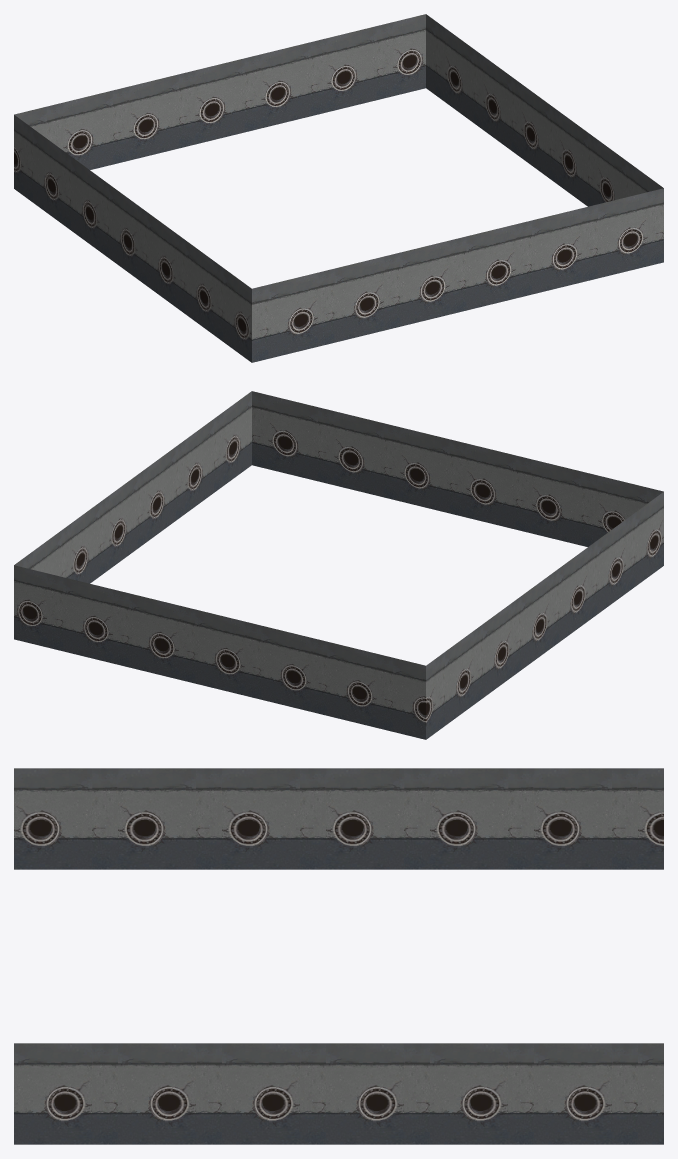
The picture shows the model from 3 angles, top to bottom: view 1: azimuth 30°, elevation 25°; view 2: azimuth 150°, elevation 25°; view 3: azimuth 270°, elevation 25°; orthographic projection. The views are drawn at different scales.
Visible parts, largest first — view 1: Joint_0_Object_0; view 2: Joint_0_Object_0; view 3: Joint_0_Object_0.
Part boxes in pixels (x1,y1,x2,y2): Joint_0_Object_0: (14, 14, 663, 362); Joint_0_Object_0: (14, 391, 663, 739); Joint_0_Object_0: (14, 768, 663, 1144).
Bounding box in the file's own units: 10000 × 1721 × 10000.
Materials: 1 (1 with a texture image).
